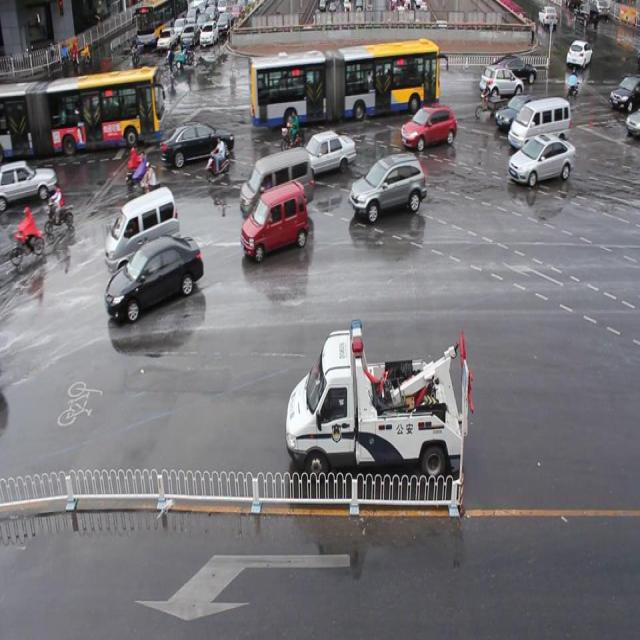bus: (286, 318, 473, 486)
car: (104, 234, 202, 317), (241, 182, 309, 258), (351, 155, 426, 220), (507, 134, 573, 184), (162, 121, 234, 163), (296, 130, 356, 178), (1, 158, 58, 208), (399, 103, 456, 151), (374, 57, 423, 96), (97, 86, 148, 121), (493, 94, 541, 130), (479, 64, 523, 98), (490, 54, 535, 86)
truck: (104, 188, 181, 273), (239, 151, 314, 218), (507, 100, 569, 150)
van: (249, 42, 439, 122), (1, 70, 162, 154)
